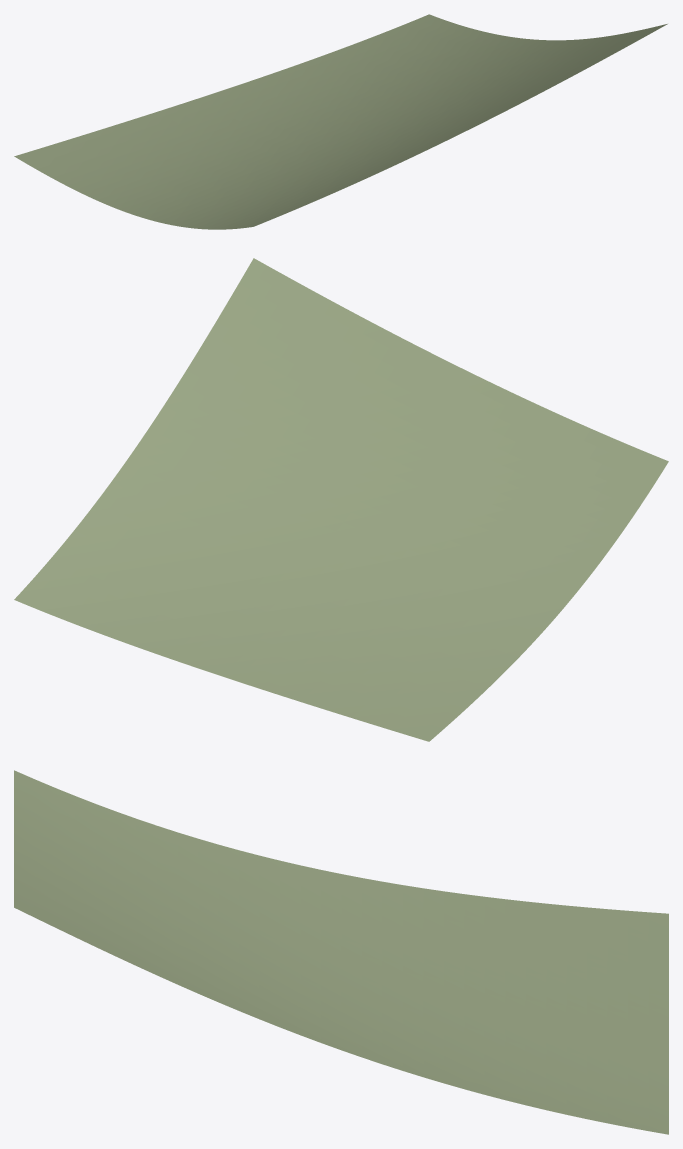
The model's file is expanse-26-27.glb.
The picture shows the model from 3 angles, top to bottom: view 1: azimuth 30°, elevation 25°; view 2: azimuth 150°, elevation 25°; view 3: azimuth 270°, elevation 25°; orthographic projection. The views are drawn at different scales.
Parts seen in each view (by area): view 1: expanse-26-27; view 2: expanse-26-27; view 3: expanse-26-27.
Boxes of the visible parts, x1,y1,x2,y2 form: expanse-26-27: [14, 14, 667, 229]; expanse-26-27: [14, 258, 668, 741]; expanse-26-27: [14, 770, 668, 1134].
Bounding box in the file's own units: 256 × 122 × 256.
